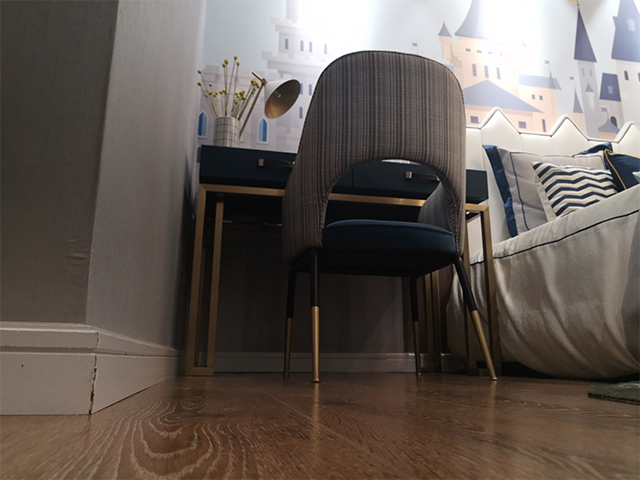bed: (444, 105, 640, 384)
stool: (279, 48, 500, 381)
table: (178, 142, 503, 379)
